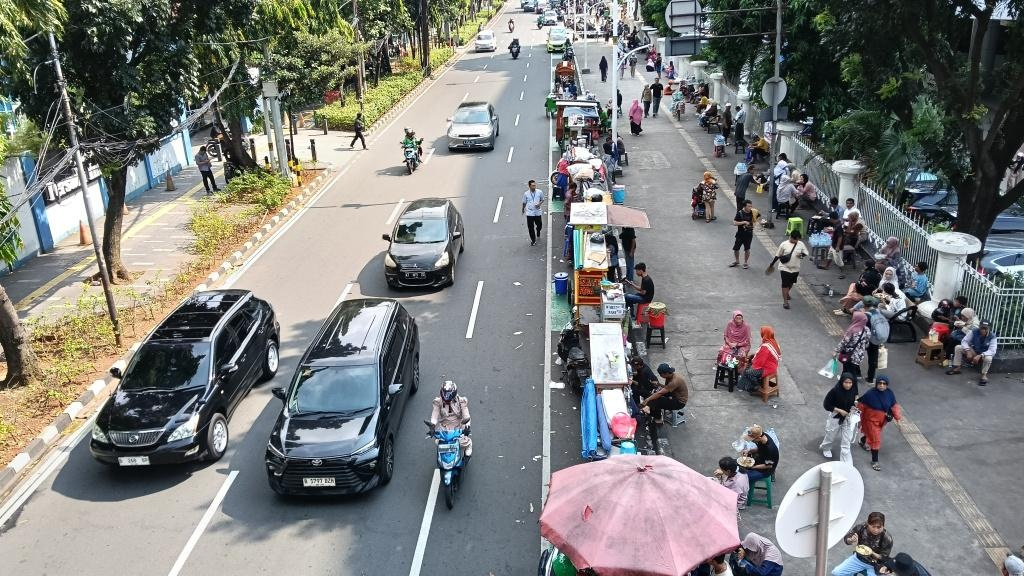Gerobak: (563, 202, 650, 320), (573, 323, 650, 455), (553, 144, 620, 204), (548, 98, 609, 147), (553, 58, 584, 98)
Payung: (538, 452, 742, 573)
